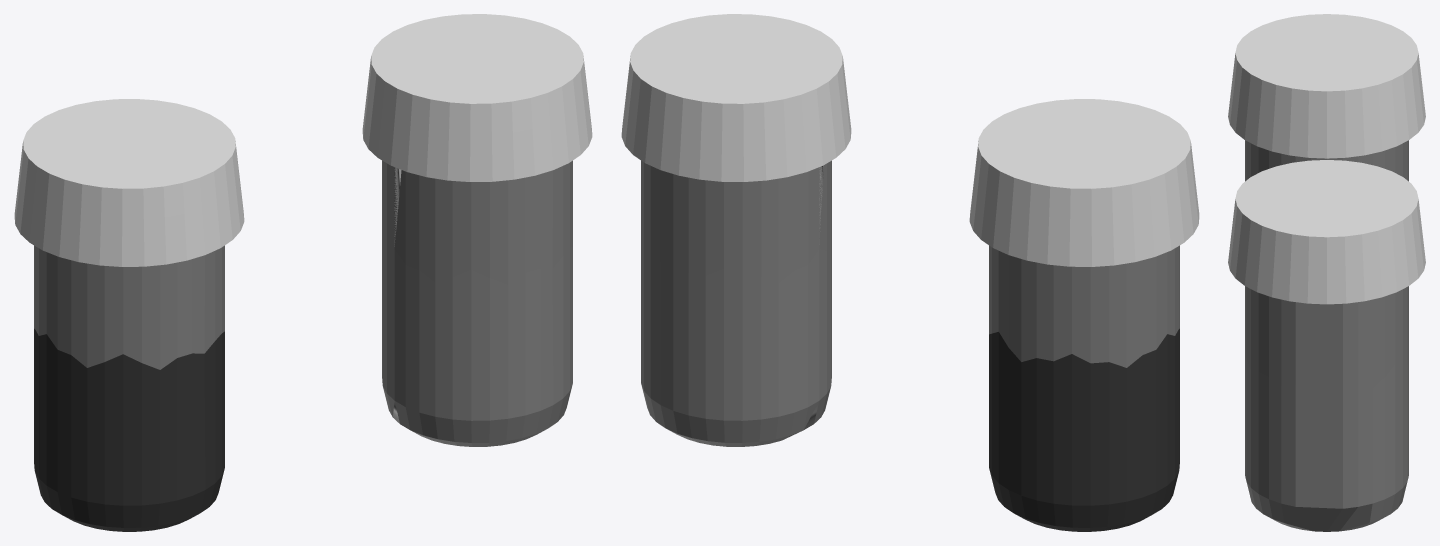
File: BottlesOfPillsModel.fbx
The picture shows the model from 3 angles, left to right: view 1: azimuth 30°, elevation 25°; view 2: azimuth 150°, elevation 25°; view 3: azimuth 270°, elevation 25°; orthographic projection. The views are drawn at different scales.
Parts seen in each view (by area): view 1: BottlesOfPillsModel; view 2: BottlesOfPillsModel; view 3: BottlesOfPillsModel.
Boxes of the visible parts, x1,y1,x2,y2 form: BottlesOfPillsModel: (14,14,592,531); BottlesOfPillsModel: (621,14,1199,531); BottlesOfPillsModel: (1228,14,1425,531).
Size of the model in its own units: 20.77 by 12.93 by 7.57.
